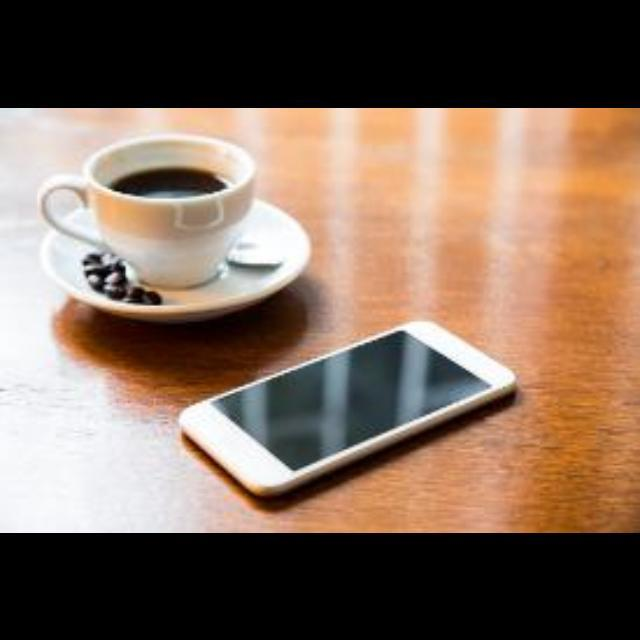Phone: (180, 320, 518, 500)
